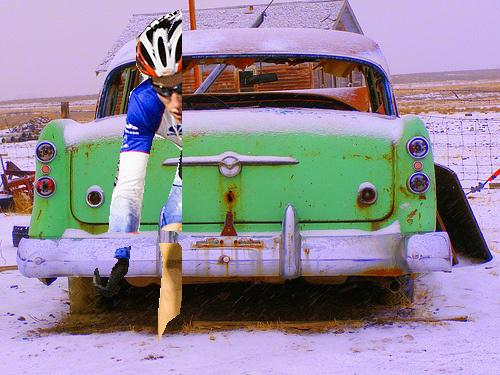tampered: (94, 8, 182, 342)
